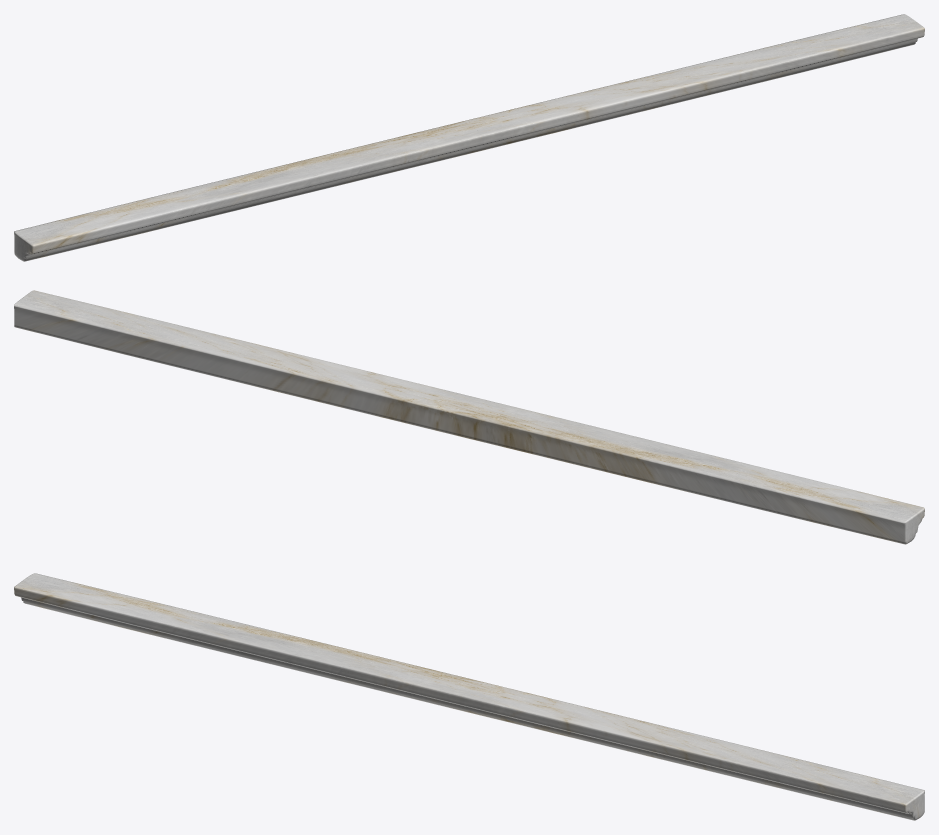
File: Renai_PorchRail.fbx
3 renders of one model, top to bottom at view 1: azimuth 30°, elevation 25°; view 2: azimuth 150°, elevation 25°; view 3: azimuth 330°, elevation 25°, orthographic.
Parts seen in each view (by area): view 1: PorchRail; view 2: PorchRail; view 3: PorchRail.
Part boxes in pixels (x1,y1,x2,y2): PorchRail: (14,14,924,261); PorchRail: (14,290,924,544); PorchRail: (14,573,924,820).
Bounding box in the file's own units: 13.93 × 0.385 × 0.5588.
Materials: 1 (1 with a texture image).
